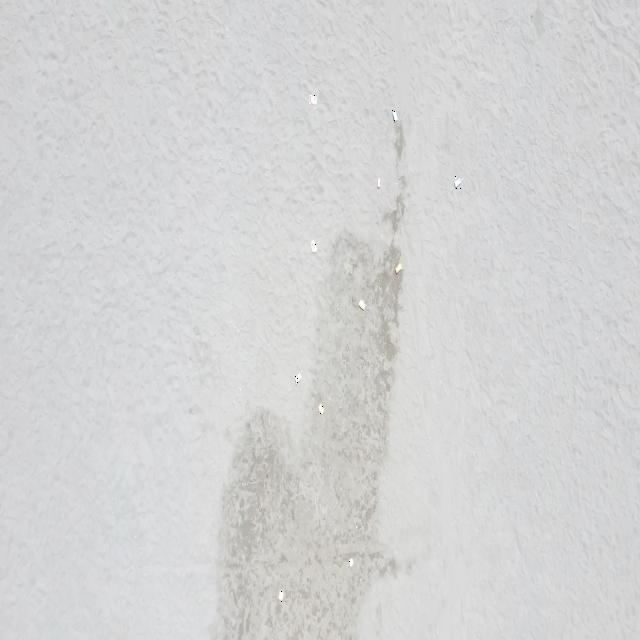Garbage: (453, 176, 462, 188), (293, 372, 300, 383), (395, 261, 402, 272), (308, 94, 316, 103), (357, 300, 364, 310), (311, 240, 316, 252), (318, 403, 324, 413), (279, 589, 283, 602), (392, 108, 396, 120), (347, 557, 352, 566), (376, 178, 380, 187)
